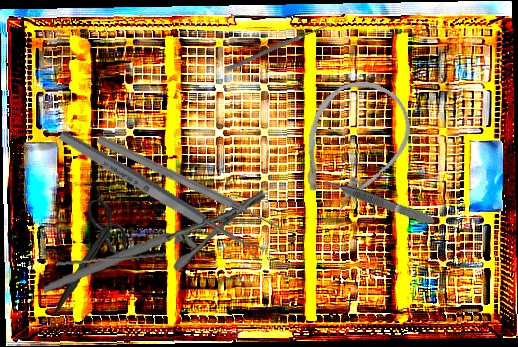Cannula: (277, 64, 426, 228)
Iris Scissors: (46, 198, 131, 315)
Needle Holder: (38, 190, 271, 292)
Pusher: (95, 133, 287, 236), (54, 248, 167, 270)
Surgical Spoon: (56, 127, 266, 263), (225, 20, 334, 73)
Tissue Forceps: (321, 174, 437, 228)
